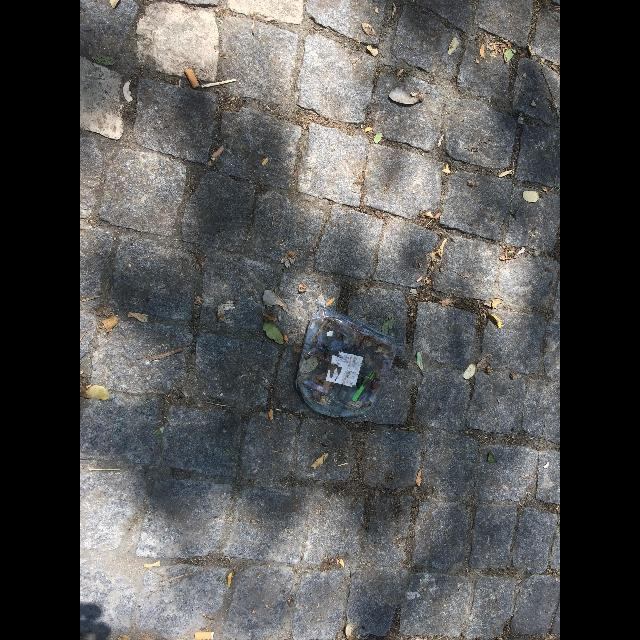Plastic: (298, 304, 398, 418)
